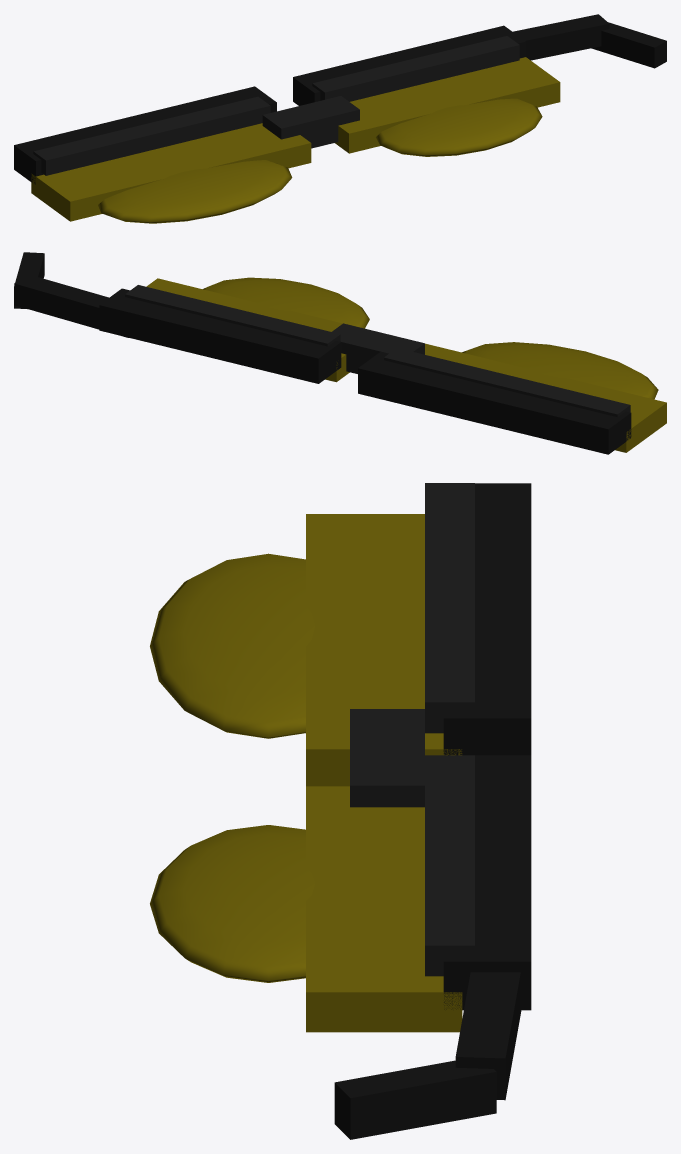
The model's file is CMU3DRMCGlassesTriMaxYellowFakeWorldCloud.glb.
3 views of the same model, one above another, from view 1: azimuth 30°, elevation 25°; view 2: azimuth 150°, elevation 25°; view 3: azimuth 270°, elevation 25° (orthographic). The views are drawn at different scales.
Visible parts, largest first — view 1: left broad yellow lens upper, right broad yellow lens upper, left tapered lower yellow lens, right tapered lower yellow lens, left source gold brow, right source gold brow, left straight upper rim, right straight upper rim, connected central nose bridge, long folded right temple, right downturned earpiece; view 2: left straight upper rim, right straight upper rim, left tapered lower yellow lens, right tapered lower yellow lens, left broad yellow lens upper, left source gold brow, right source gold brow, long folded right temple, right broad yellow lens upper, connected central nose bridge, right downturned earpiece; view 3: right broad yellow lens upper, left broad yellow lens upper, left tapered lower yellow lens, right tapered lower yellow lens, left straight upper rim, right straight upper rim, left source gold brow, right source gold brow, right downturned earpiece, connected central nose bridge, long folded right temple.
Boxes of the visible parts, x1,y1,x2,y2 form: left broad yellow lens upper: [31, 123, 311, 221]; right broad yellow lens upper: [335, 57, 560, 153]; left tapered lower yellow lens: [98, 160, 292, 223]; right tapered lower yellow lens: [376, 98, 542, 156]; left source gold brow: [33, 96, 270, 175]; right source gold brow: [312, 36, 519, 101]; left straight upper rim: [14, 86, 276, 184]; right straight upper rim: [293, 25, 525, 105]; connected central nose bridge: [262, 96, 359, 148]; long folded right temple: [513, 14, 609, 60]; right downturned earpiece: [591, 22, 666, 68]; left straight upper rim: [358, 351, 631, 454]; right straight upper rim: [99, 288, 341, 383]; left tapered lower yellow lens: [462, 342, 658, 399]; right tapered lower yellow lens: [203, 277, 369, 328]; left broad yellow lens upper: [425, 343, 666, 452]; left source gold brow: [384, 348, 630, 417]; right source gold brow: [125, 285, 340, 346]; long folded right temple: [14, 274, 128, 337]; right broad yellow lens upper: [146, 278, 349, 382]; connected central nose bridge: [332, 323, 424, 373]; right downturned earpiece: [14, 252, 44, 309]; right broad yellow lens upper: [306, 786, 462, 1032]; left broad yellow lens upper: [306, 514, 462, 786]; left tapered lower yellow lens: [150, 553, 315, 738]; right tapered lower yellow lens: [150, 825, 315, 982]; left straight upper rim: [443, 483, 531, 755]; right straight upper rim: [443, 755, 531, 1010]; left source gold brow: [425, 483, 474, 733]; right source gold brow: [425, 755, 474, 976]; right downturned earpiece: [334, 1060, 496, 1139]; connected central nose bridge: [350, 709, 424, 807]; long folded right temple: [455, 972, 521, 1100].
Bounding box in the file's own units: 0.7015 × 0.043 × 0.1906.
